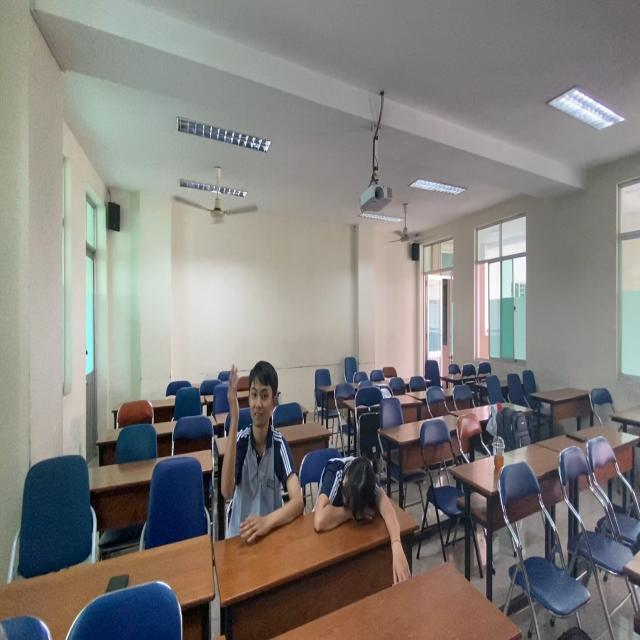raise_hand: (223, 358, 304, 553)
sleep: (312, 446, 405, 561)
